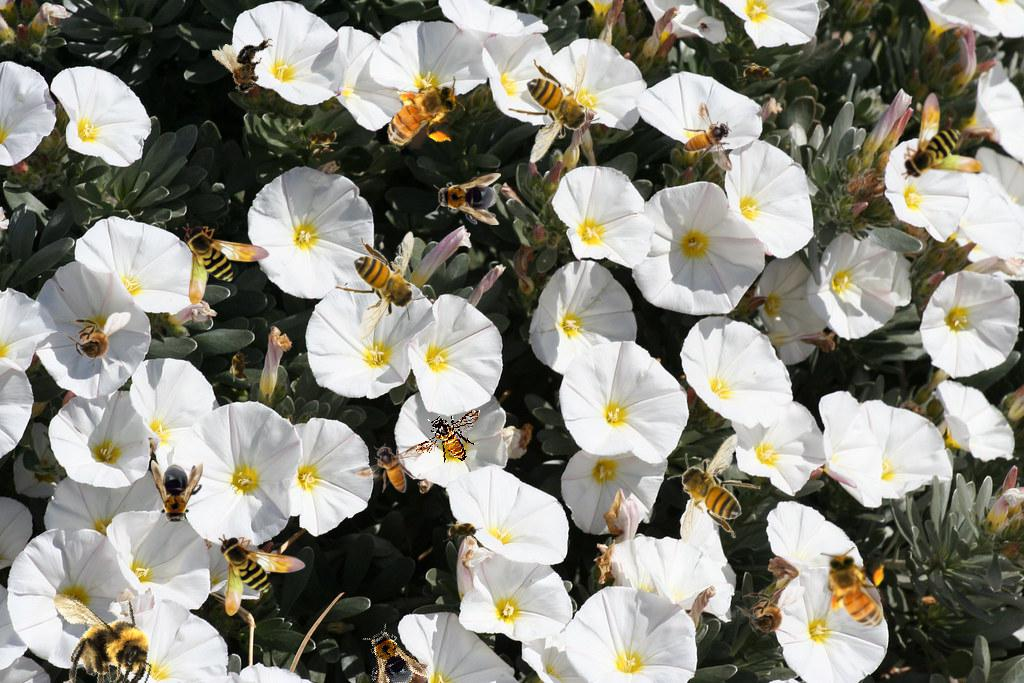Bee: (28, 573, 171, 683), (667, 433, 761, 544), (507, 53, 601, 164), (334, 231, 428, 342), (368, 75, 470, 154), (218, 534, 306, 616), (901, 92, 983, 180), (182, 223, 270, 305), (820, 547, 888, 640), (350, 617, 430, 683), (210, 34, 283, 100), (409, 408, 487, 469), (735, 586, 805, 647), (61, 312, 131, 373), (355, 443, 426, 493), (683, 101, 733, 172), (151, 460, 203, 528), (433, 173, 501, 225), (736, 60, 780, 88), (443, 520, 483, 542), (302, 126, 342, 148), (229, 346, 251, 386)
